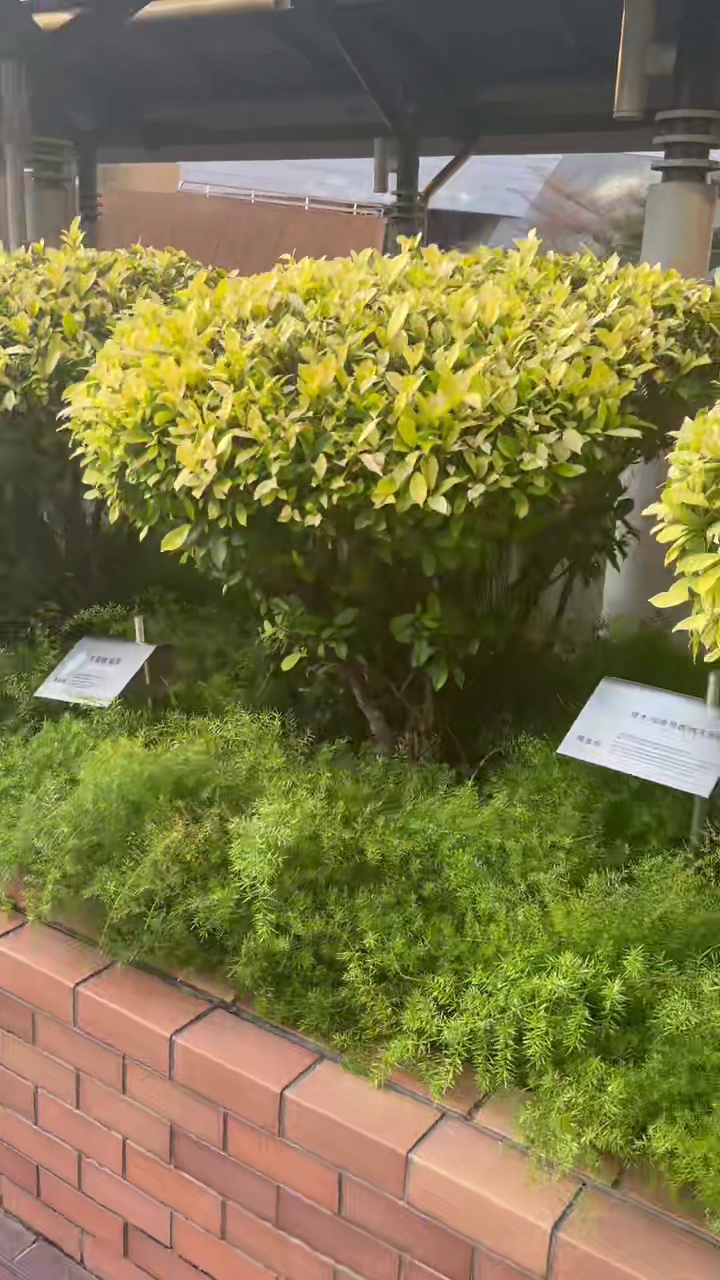Golden-leaves Fig: (65, 236, 719, 754)
